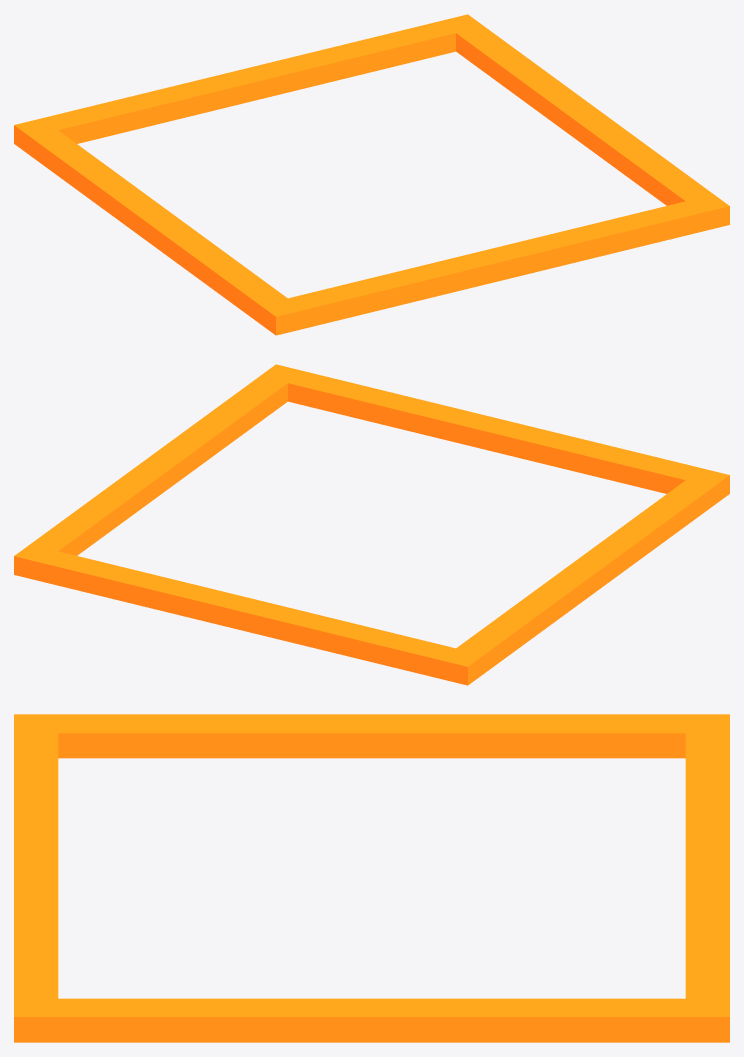
The model's file is TowerStructureSelect.glb.
3 renders of one model, top to bottom at view 1: azimuth 30°, elevation 25°; view 2: azimuth 150°, elevation 25°; view 3: azimuth 270°, elevation 25°, orthographic. The views are drawn at different scales.
Parts seen in each view (by area): view 1: tower_selection; view 2: tower_selection; view 3: tower_selection.
Part boxes in pixels (x1=…): tower_selection: x1=14, y1=14, x2=729, y2=335; tower_selection: x1=14, y1=364, x2=729, y2=685; tower_selection: x1=14, y1=714, x2=729, y2=1042.
Size of the model in its own units: 0.4076 by 0.0161 by 0.4076.
